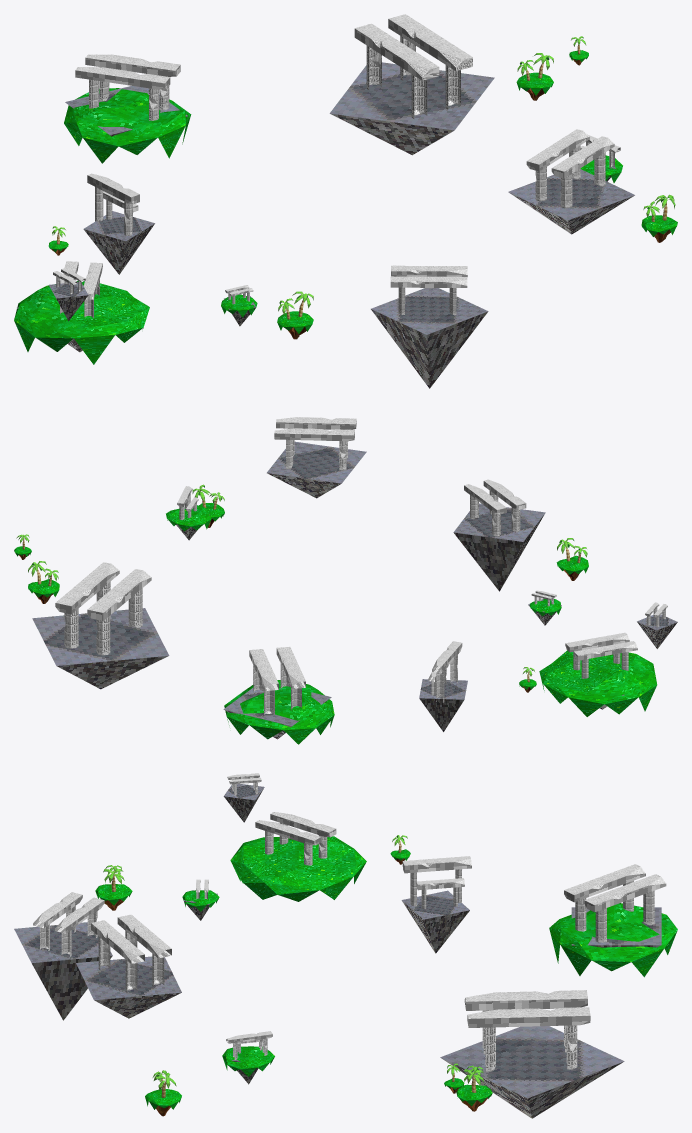
File: islands.gltf
3 renders of one model, top to bottom at view 1: azimuth 30°, elevation 25°; view 2: azimuth 150°, elevation 25°; view 3: azimuth 270°, elevation 25°, orthographic. The views are drawn at different scales.
Parts seen in each view (by area): view 1: LLL.023, Icosphere.010, LLL.005, Icosphere.012, LLL.020, LLL.022, LLL.126, LLL.129, LLL.003, LLL.145, LLL.138, LLL.004 (+4 smaller); view 2: LLL.023, Icosphere.010, LLL.005, Icosphere.012, LLL.020, LLL.022, LLL.126, LLL.129, LLL.004, Icosphere.011, LLL.003, LLL.122 (+3 smaller); view 3: LLL.023, Icosphere.010, Icosphere.012, LLL.005, LLL.020, LLL.129, LLL.022, LLL.126, Icosphere.011, LLL.004, LLL.003, LLL.122 (+8 smaller).
Part boxes in pixels (x1=…): LLL.023: x1=329, y1=62, x2=494, y2=155; Icosphere.010: x1=14, y1=281, x2=149, y2=364; LLL.005: x1=371, y1=288, x2=488, y2=388; Icosphere.012: x1=64, y1=88, x2=191, y2=163; LLL.020: x1=508, y1=169, x2=634, y2=234; LLL.022: x1=83, y1=211, x2=154, y2=274; LLL.126: x1=354, y1=23, x2=439, y2=80; LLL.129: x1=388, y1=14, x2=472, y2=71; LLL.003: x1=49, y1=282, x2=88, y2=321; LLL.145: x1=75, y1=70, x2=170, y2=89; LLL.138: x1=85, y1=57, x2=180, y2=76; LLL.004: x1=65, y1=86, x2=187, y2=136; LLL.023: x1=32, y1=608, x2=169, y2=689; Icosphere.010: x1=539, y1=650, x2=657, y2=716; LLL.005: x1=453, y1=503, x2=545, y2=591; Icosphere.012: x1=224, y1=680, x2=334, y2=744; LLL.020: x1=267, y1=441, x2=366, y2=498; LLL.022: x1=419, y1=679, x2=467, y2=731; LLL.126: x1=87, y1=569, x2=151, y2=620; LLL.129: x1=55, y1=562, x2=119, y2=614; LLL.004: x1=223, y1=688, x2=331, y2=739; Icosphere.011: x1=166, y1=505, x2=211, y2=531; LLL.003: x1=637, y1=614, x2=677, y2=648; LLL.122: x1=249, y1=649, x2=278, y2=688; LLL.023: x1=440, y1=1026, x2=624, y2=1118; Icosphere.010: x1=230, y1=836, x2=366, y2=901; Icosphere.012: x1=549, y1=903, x2=677, y2=977; LLL.005: x1=14, y1=922, x2=112, y2=1020; LLL.020: x1=76, y1=956, x2=181, y2=1018; LLL.129: x1=467, y1=1007, x2=590, y2=1027; LLL.022: x1=401, y1=890, x2=469, y2=953; LLL.126: x1=464, y1=990, x2=587, y2=1010; Icosphere.011: x1=222, y1=1046, x2=274, y2=1076; LLL.004: x1=571, y1=907, x2=661, y2=947; LLL.003: x1=223, y1=783, x2=264, y2=822; LLL.122: x1=584, y1=874, x2=665, y2=904.
Size of the model in its own units: 666 by 169 by 598.
9 materials, 9 textured.
